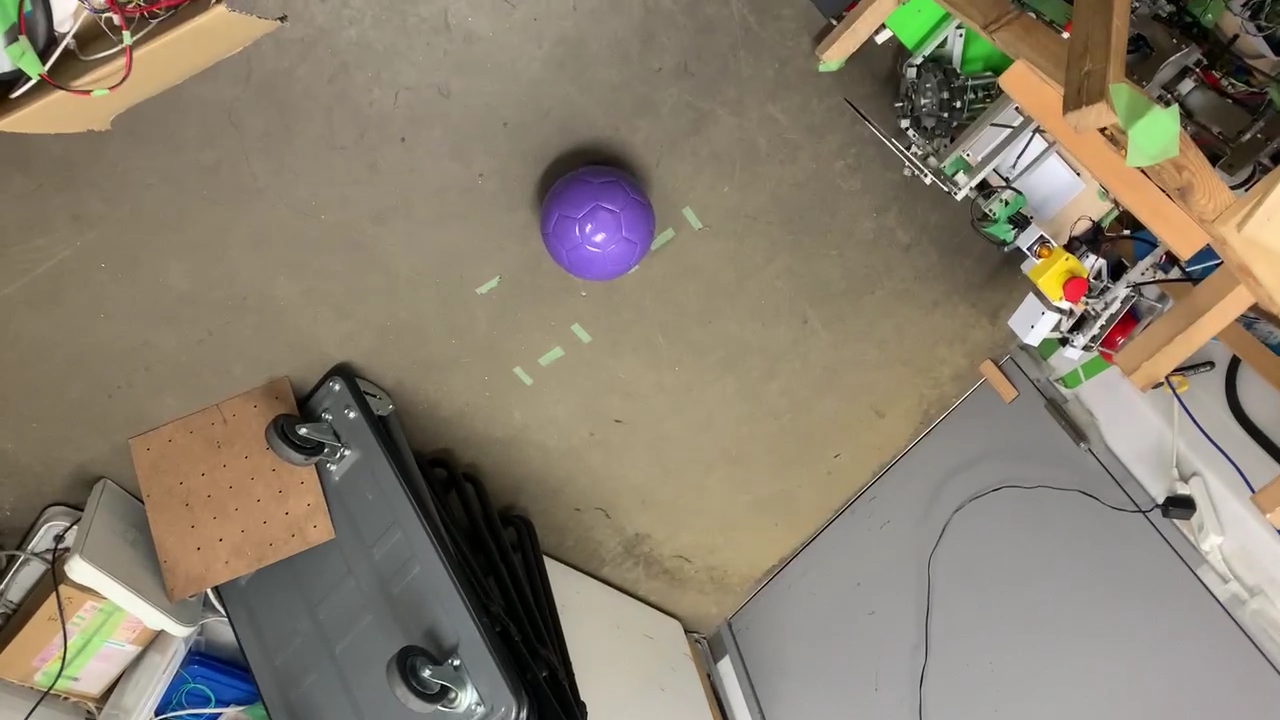purple: (539, 165, 656, 283)
